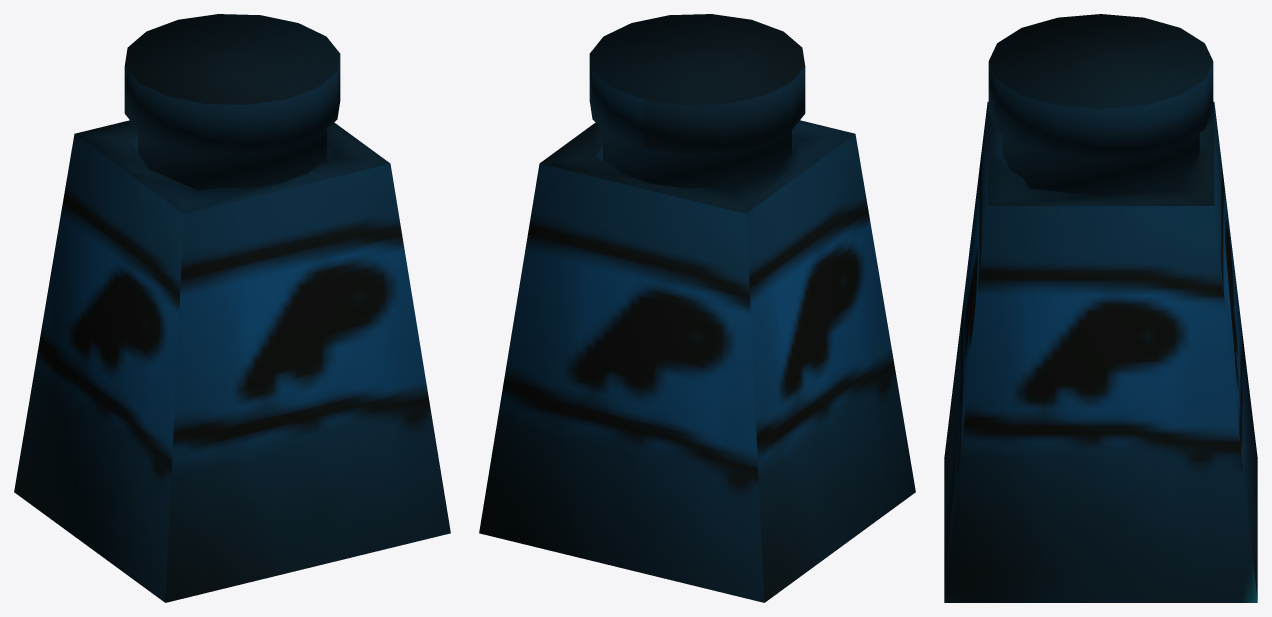
File: Tinta.fbx
3 renders of one model, left to right at view 1: azimuth 30°, elevation 25°; view 2: azimuth 150°, elevation 25°; view 3: azimuth 270°, elevation 25°, orthographic. The views are drawn at different scales.
Visible parts, largest first — view 1: Tinta; view 2: Tinta; view 3: Tinta.
Part boxes in pixels (x1,y1,x2,y2): Tinta: [14, 14, 450, 602]; Tinta: [479, 14, 915, 602]; Tinta: [944, 14, 1257, 602].
Size of the model in its own units: 27.55 by 25.3 by 41.8.
